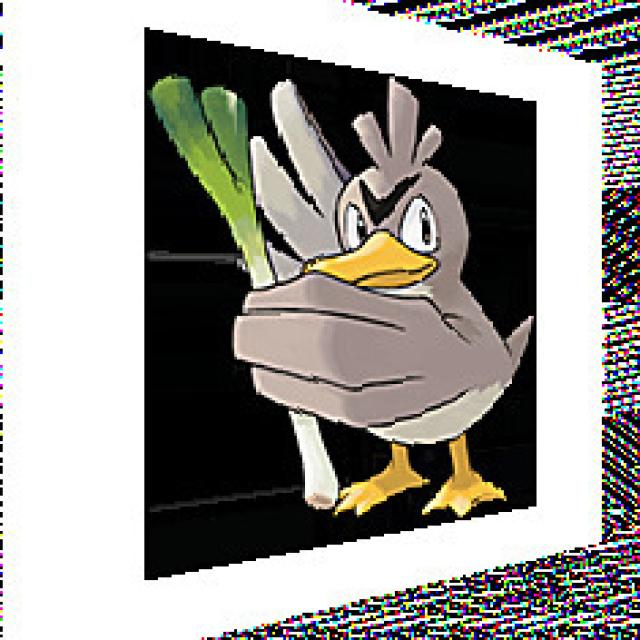Farfetchd: (150, 88, 508, 514)
